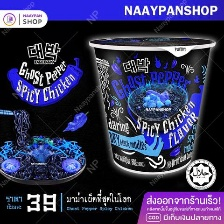paper_cup: (83, 30, 220, 178)
